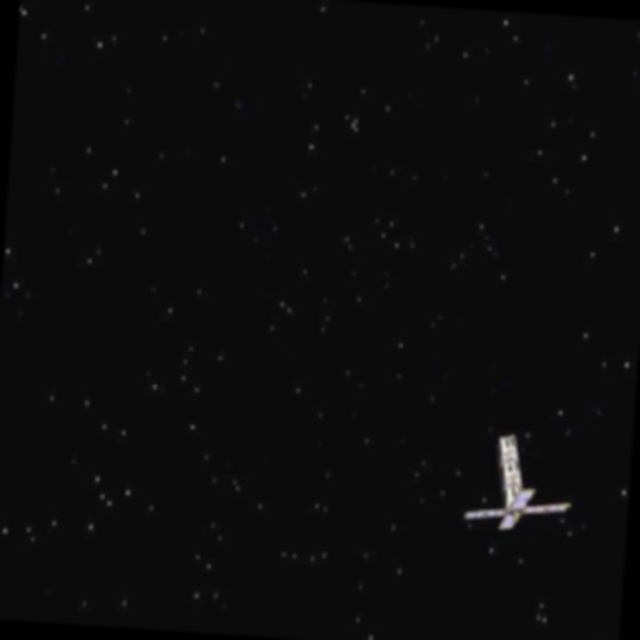medium_debris: (447, 430, 575, 545)
